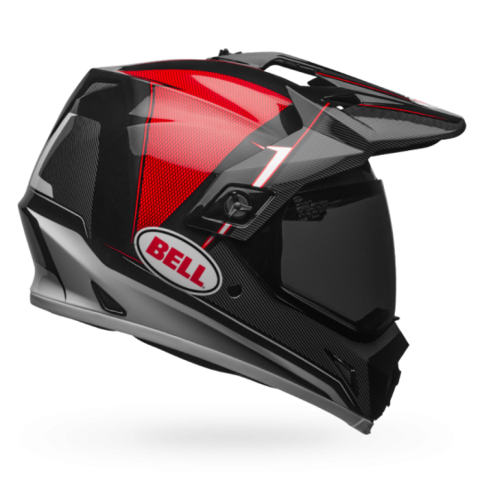with_helmet: (16, 41, 467, 440)
